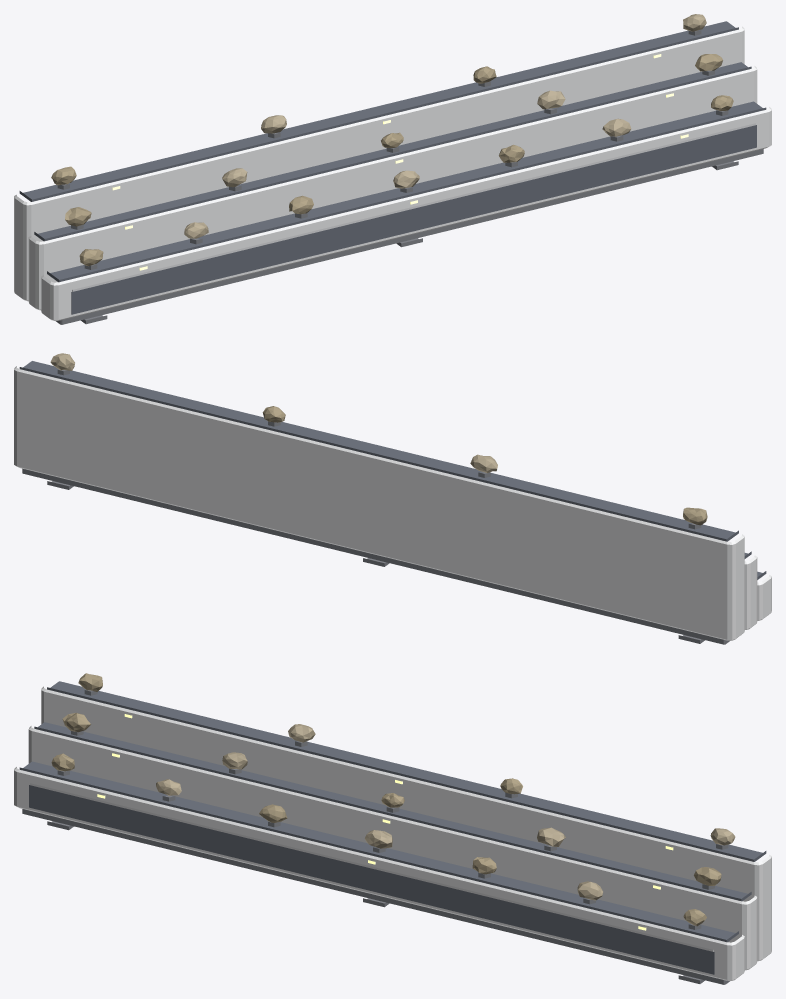
The model's file is ext_ts4_dead_foliage.glb.
3 renders of one model, top to bottom at view 1: azimuth 30°, elevation 25°; view 2: azimuth 150°, elevation 25°; view 3: azimuth 330°, elevation 25°, orthographic.
Visible parts, largest first — view 1: Tiers, Tier_Lids, Reservoir, Base_Frame, Foliage, Foliage_Light, Reservoir_Seal, Net_Cup_Clips; view 2: Tiers, Tier_Lids, Base_Frame, Foliage_Light, Foliage; view 3: Tiers, Tier_Lids, Reservoir, Base_Frame, Foliage, Foliage_Light, Reservoir_Seal, Net_Cup_Clips.
Part boxes in pixels (<box>): Tiers: <box>14,26,771,320</box>; Tier_Lids: <box>19,21,766,282</box>; Reservoir: <box>71,125,756,314</box>; Base_Frame: <box>56,149,763,324</box>; Foliage: <box>51,54,733,266</box>; Foliage_Light: <box>184,14,706,238</box>; Reservoir_Seal: <box>72,123,755,291</box>; Net_Cup_Clips: <box>57,30,728,269</box>; Tiers: <box>14,366,771,640</box>; Tier_Lids: <box>19,361,766,579</box>; Base_Frame: <box>22,468,730,644</box>; Foliage_Light: <box>50,353,497,473</box>; Foliage: <box>262,406,707,525</box>; Tiers: <box>14,686,771,980</box>; Tier_Lids: <box>19,681,766,942</box>; Reservoir: <box>29,785,714,974</box>; Base_Frame: <box>22,809,729,984</box>; Foliage: <box>51,673,721,926</box>; Foliage_Light: <box>156,724,735,900</box>; Reservoir_Seal: <box>30,783,713,951</box>; Net_Cup_Clips: <box>57,690,728,929</box>.
Bounding box in the file's own units: 4 × 0.6859 × 0.406.
